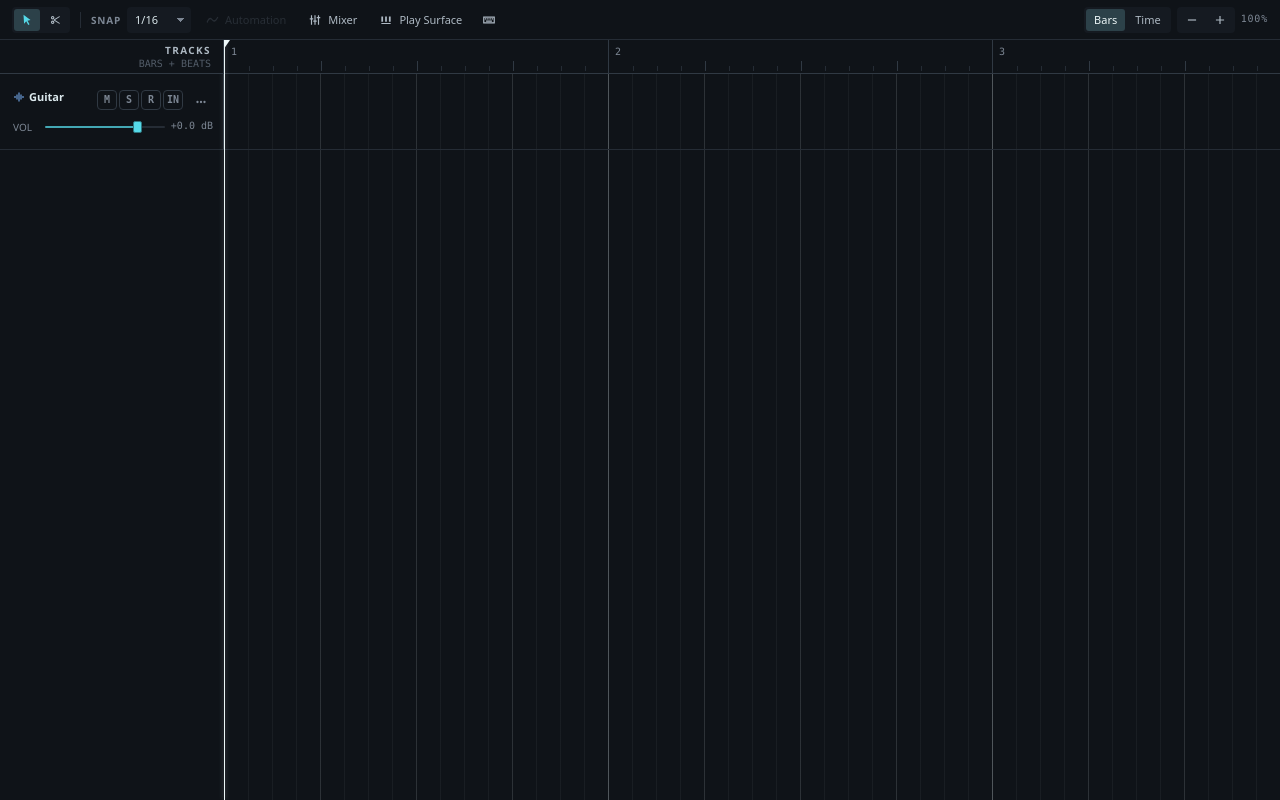
Scenario: EditorWorkspace › opens Devices from the track menu with available and disabled plugins
Click the button named "Guitar track menu".
click(201, 102)  # box [189, 90, 213, 114]
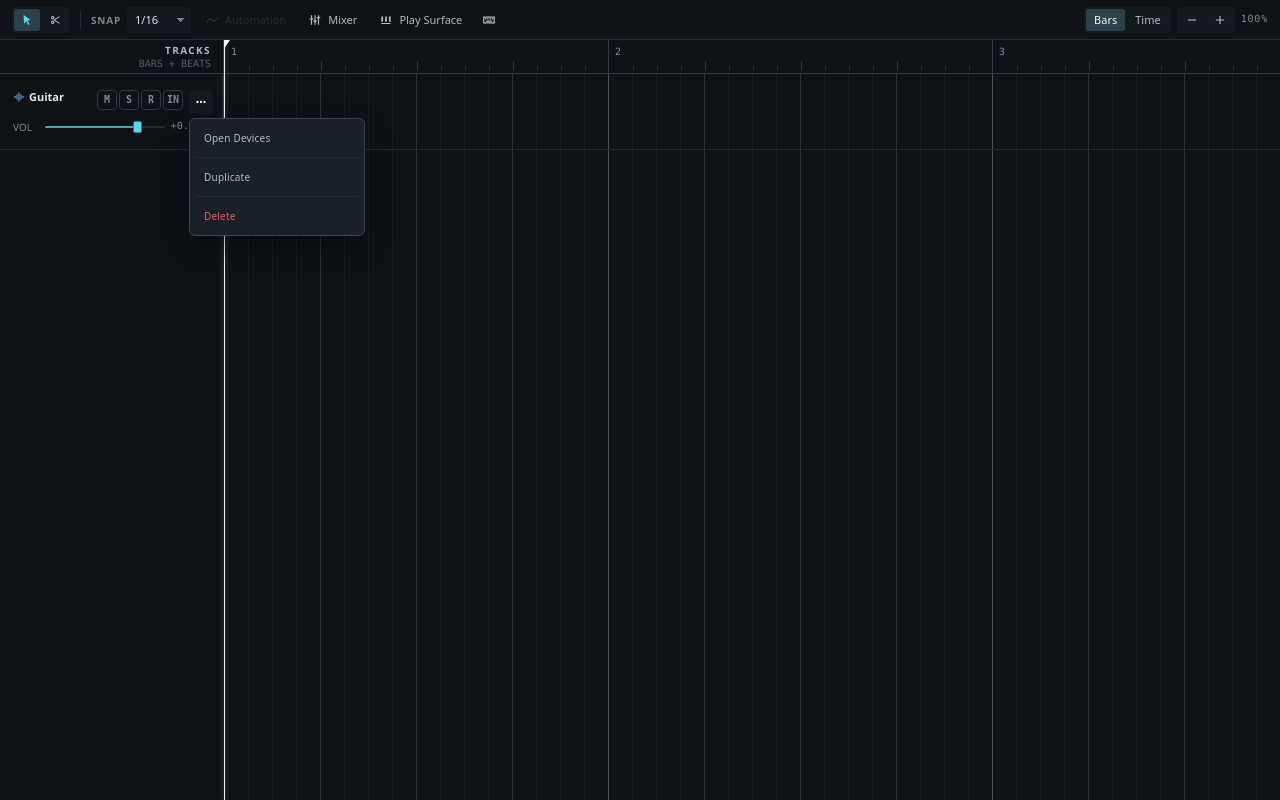
Expected: the menu is shown, [189, 118, 365, 236]
Press the mouse on the element that starts with "Snap" at (640, 400), box [0, 0, 1279, 799]
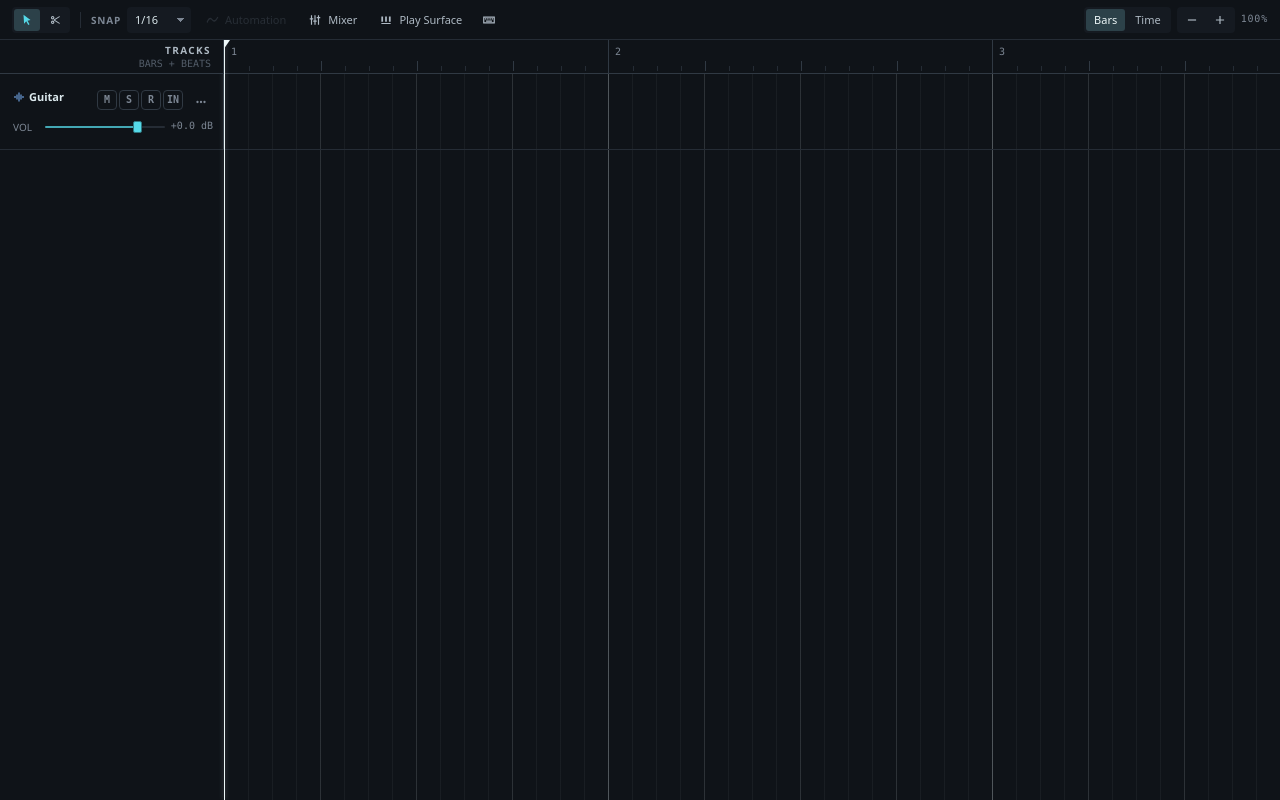
Expected: the menu is gone
Click the button named "Guitar track menu".
click(201, 102)  # box [189, 90, 213, 114]
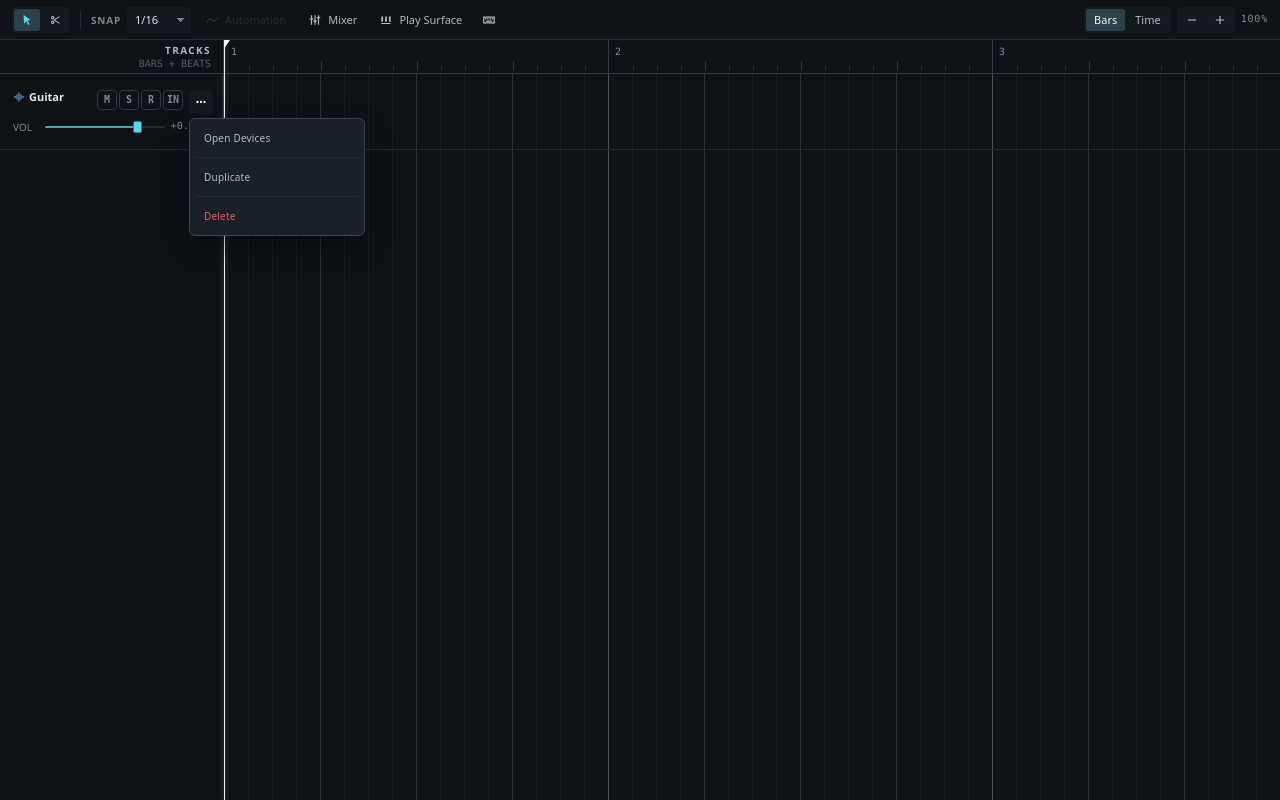
Click the menu item "Open Devices".
click(277, 138)  # box [194, 122, 360, 152]
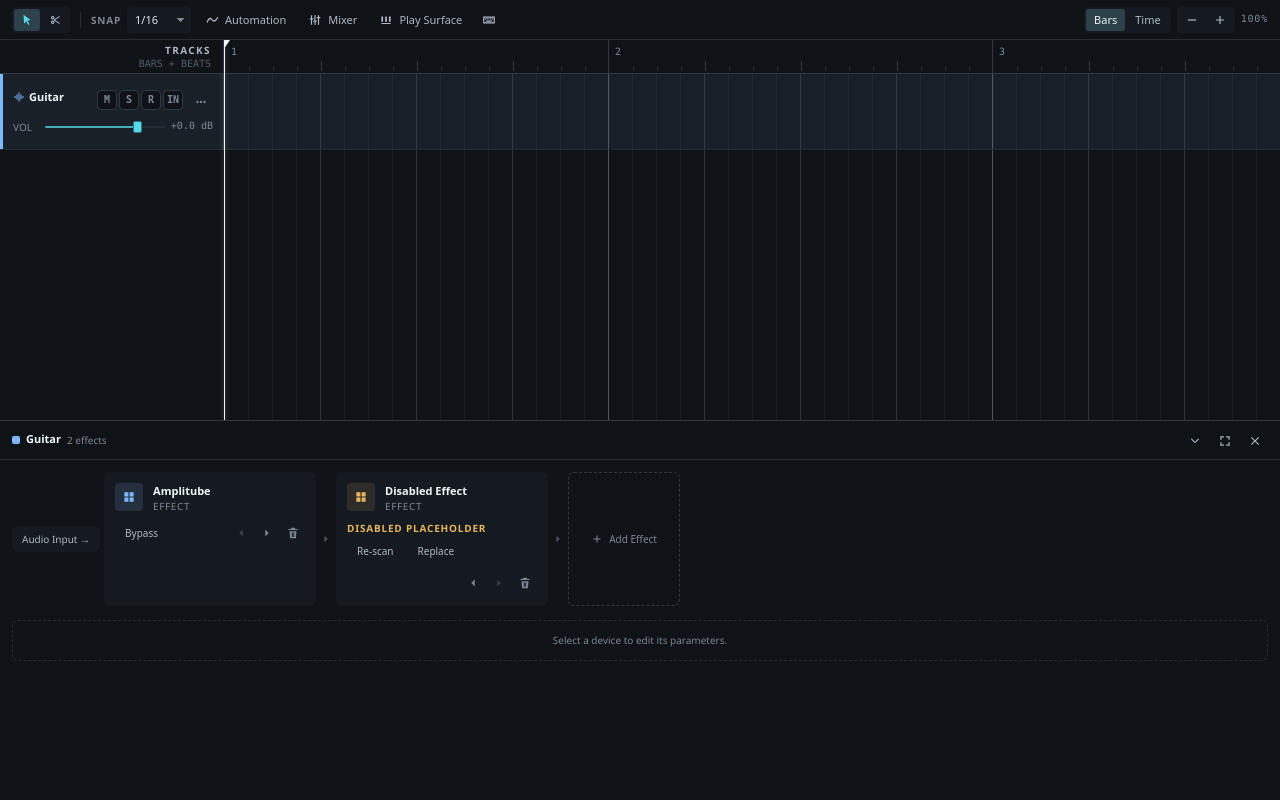
Expected: the button "Amplitube" is shown, [153, 483, 305, 498]
Expected: the button "Disabled Effect" is shown, [385, 483, 537, 498]
